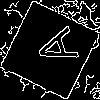A: (25, 25, 79, 72)
